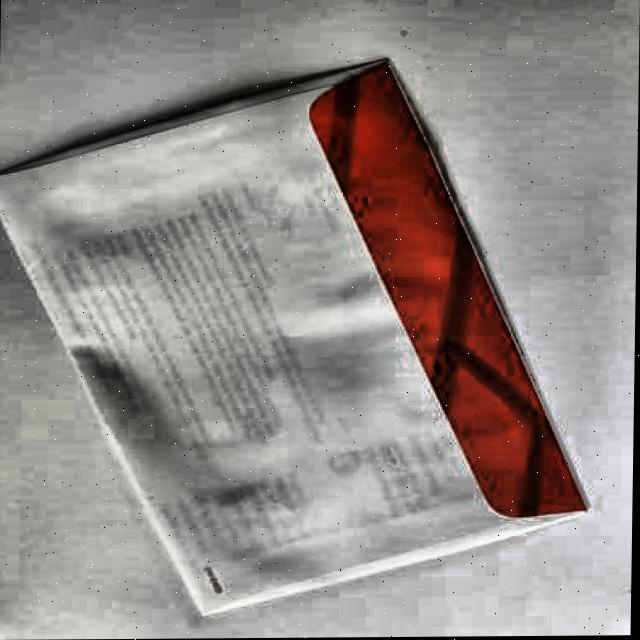paper: (0, 55, 597, 618)
